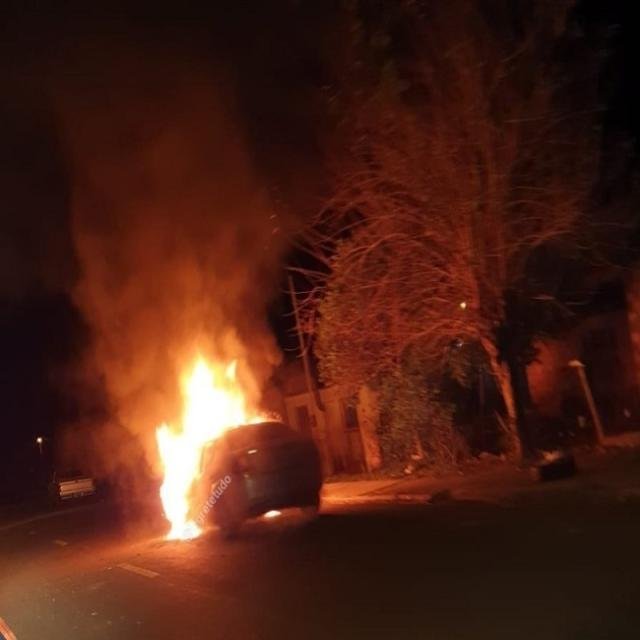Fire: (153, 341, 280, 541)
Smoke: (66, 90, 308, 538)
